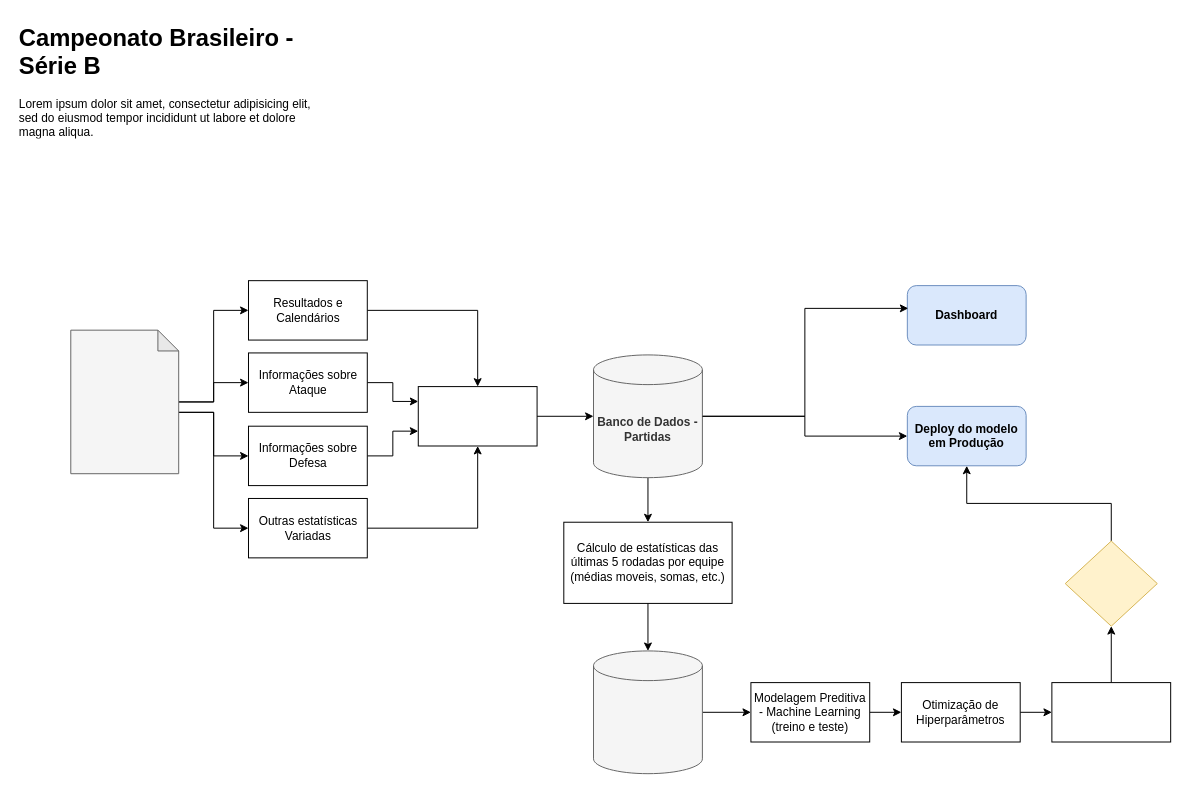
Image size: 1188x791. Some labels were removed from this diagram. Here are the shapes that lost their labels. From the top down, the centre of each, then its label:
At point 124,401: "Resultados das Partidas (FBREF)".
At point 477,416: "União e consolidação dos dados".
At point 1110,583: "Serialização do modelo (joblib)".
At point 647,712: "Banco de Dados - Modelagem Preditiva".
At point 1111,712: "Obtenção do modelo mais performático com base em métricas".
